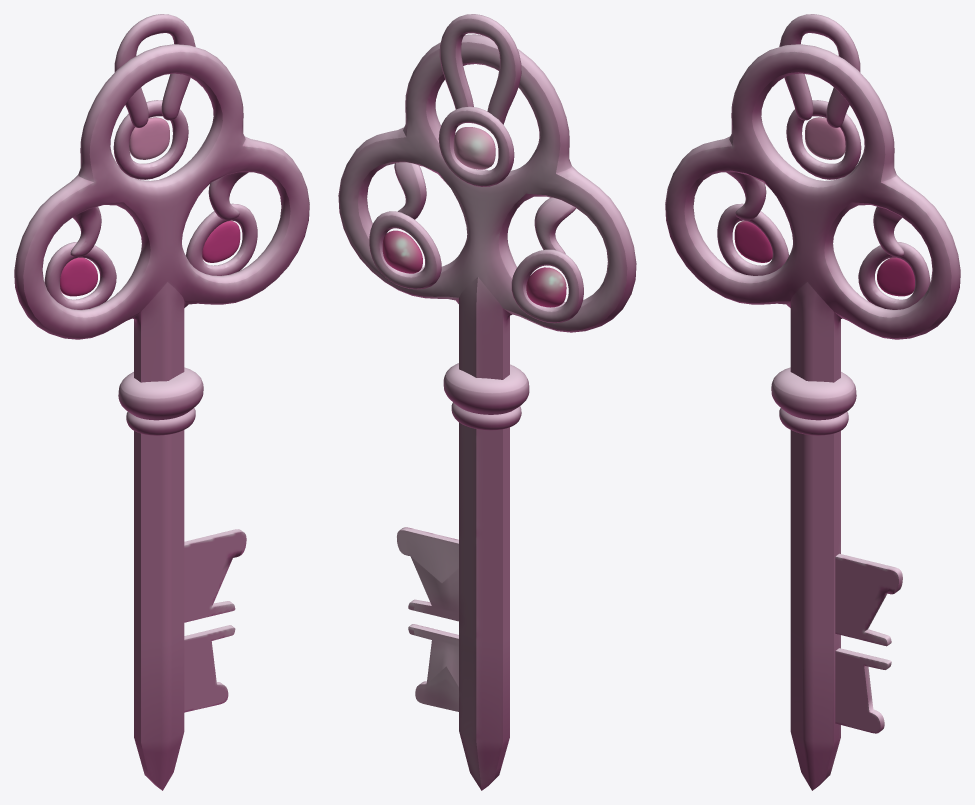
The model's file is VisualNovel_Key.fbx.
3 renders of one model, left to right at view 1: azimuth 30°, elevation 25°; view 2: azimuth 150°, elevation 25°; view 3: azimuth 330°, elevation 25°, orthographic.
Parts seen in each view (by area): view 1: Key; view 2: Key; view 3: Key.
Boxes of the visible parts, x1=… form: Key: x1=14, y1=14, x2=309, y2=790; Key: x1=338, y1=14, x2=636, y2=790; Key: x1=665, y1=14, x2=960, y2=790.
Bounding box in the file's own units: 134 × 338 × 29.9.
